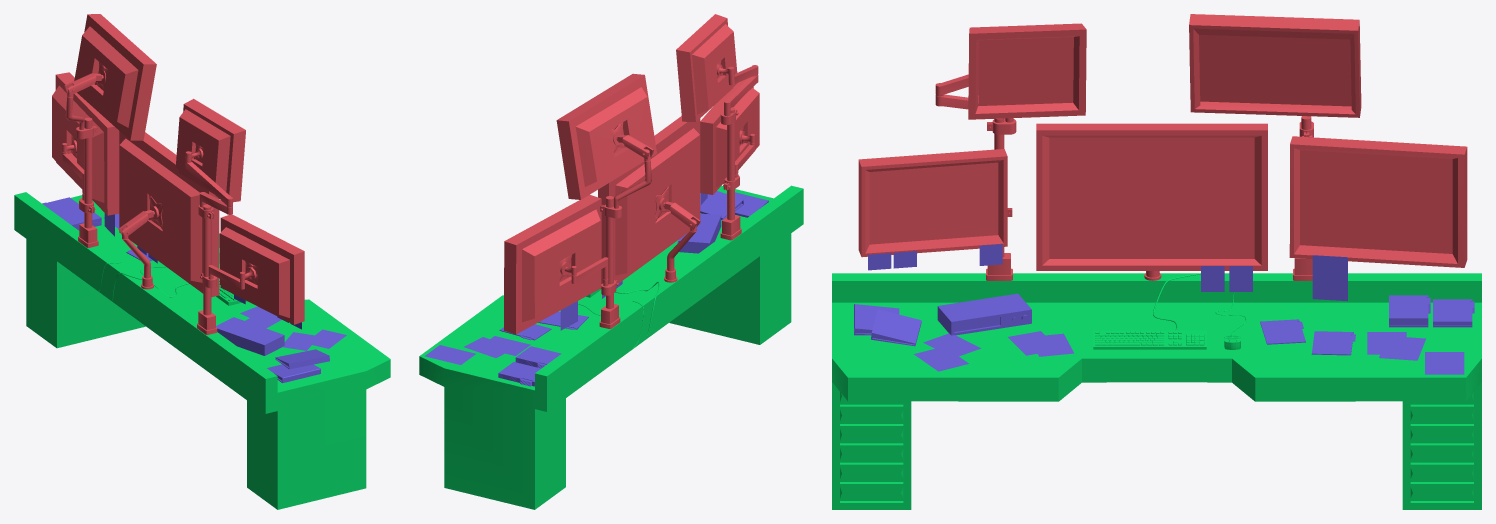
File: cpuA_low1.fbx
The picture shows the model from 3 angles, left to right: view 1: azimuth 30°, elevation 25°; view 2: azimuth 150°, elevation 25°; view 3: azimuth 270°, elevation 25°; orthographic projection. The views are drawn at different scales.
Parts seen in each view (by area): view 1: cabinet_low, pivot1_low, paper7_low; view 2: pivot1_low, cabinet_low, paper7_low; view 3: cabinet_low, pivot1_low, screen1_low, paper7_low, screen5_low, screen4_low, screen3_low, screen2_low.
Boxes of the visible parts, box(x1,y1,x2,y2) form: cabinet_low: box(14, 192, 390, 509); pivot1_low: box(52, 14, 304, 334); paper7_low: box(42, 197, 346, 383); pivot1_low: box(504, 14, 759, 334); cabinet_low: box(419, 185, 803, 509); paper7_low: box(425, 191, 768, 386); cabinet_low: box(832, 273, 1481, 509); pivot1_low: box(858, 14, 1467, 280); screen1_low: box(1049, 137, 1254, 258); paper7_low: box(854, 244, 1474, 374); screen5_low: box(1300, 150, 1452, 253); screen4_low: box(1199, 35, 1350, 104); screen3_low: box(869, 162, 998, 244); screen2_low: box(978, 37, 1073, 104).
Bounding box in the file's own units: 103 × 215 × 286.
